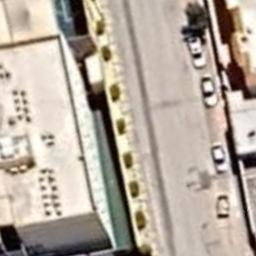sedan: (186, 36, 206, 69), (200, 73, 218, 108), (210, 140, 228, 174)
